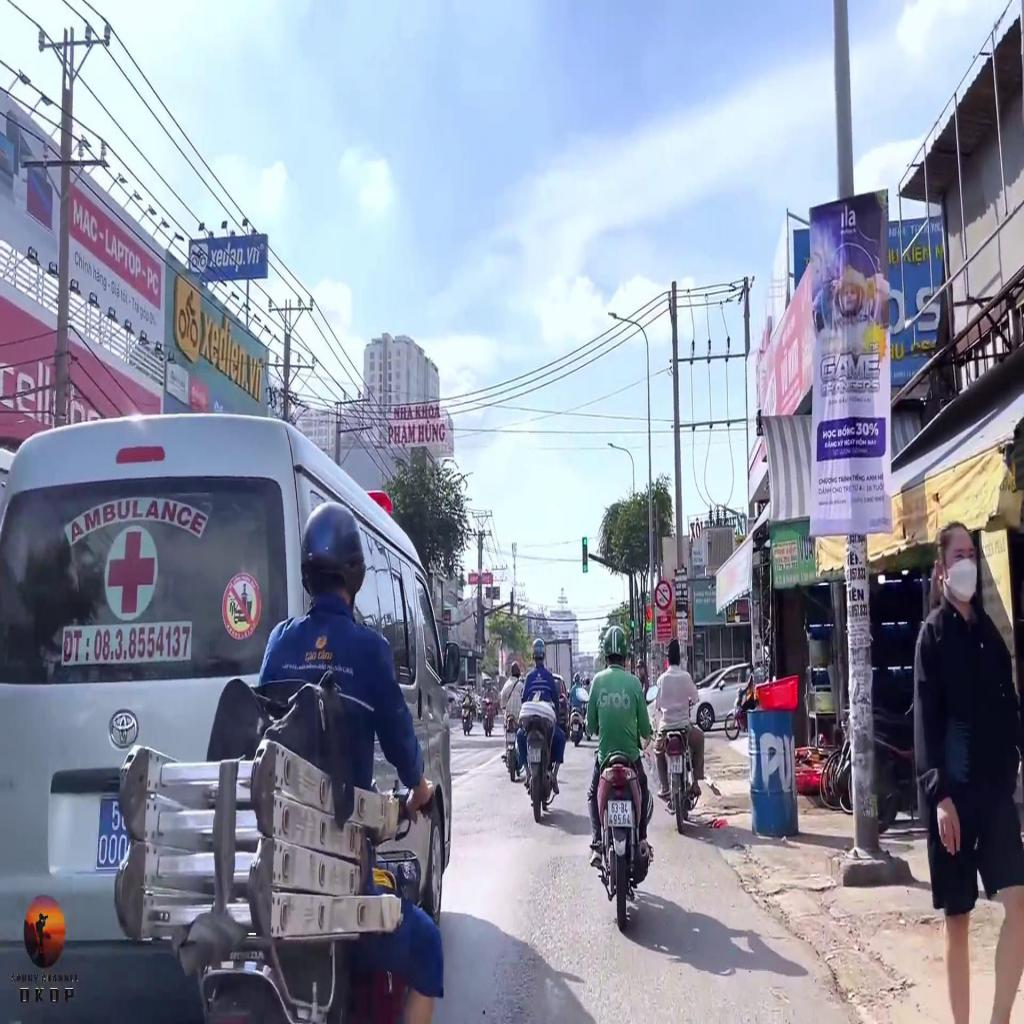cam_cac_loai_xe_3_banh: (655, 580, 672, 611)
